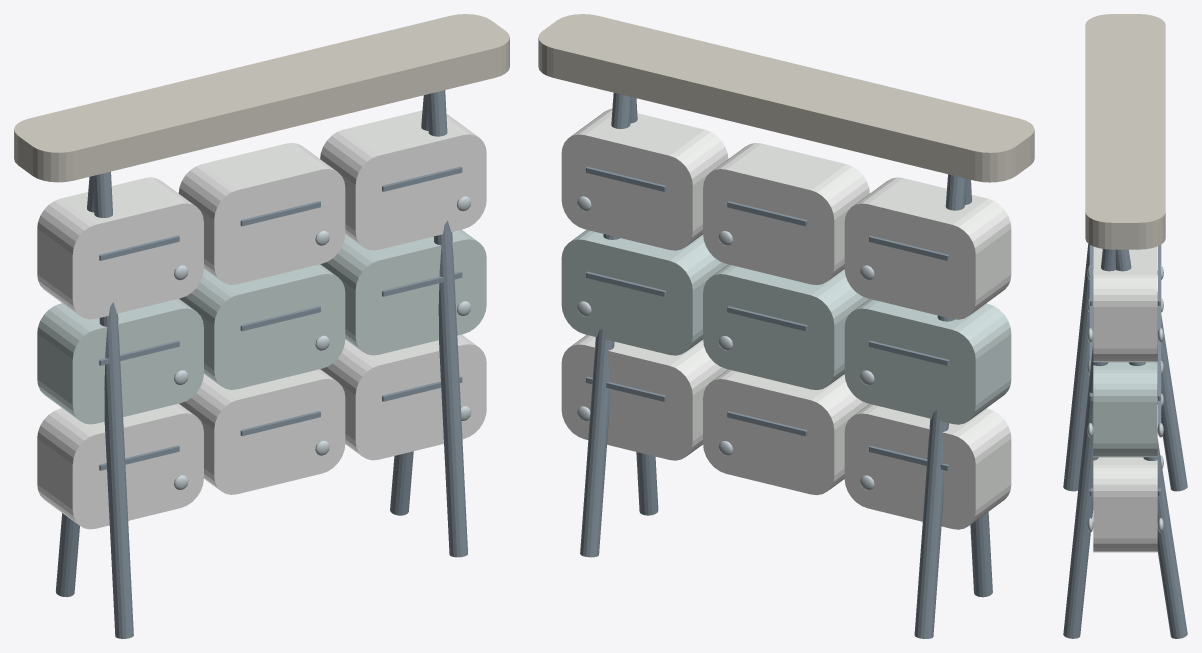
The model's file is mailbox_bank.glb.
3 views of the same model, side by side, from view 1: azimuth 30°, elevation 25°; view 2: azimuth 150°, elevation 25°; view 3: azimuth 270°, elevation 25° (orthographic). The views are drawn at different scales.
Parts seen in each view (by area): view 1: decor_d8dcd8_matte, decor_9bb7b5_matte, decor_aaa493_matte, decor_455665_metal, decor_9aadb8_metal; view 2: decor_d8dcd8_matte, decor_9bb7b5_matte, decor_aaa493_matte, decor_455665_metal, decor_9aadb8_metal; view 3: decor_aaa493_matte, decor_455665_metal, decor_d8dcd8_matte, decor_9bb7b5_matte, decor_9aadb8_metal.
Boxes of the visible parts, x1,y1,x2,y2 form: decor_d8dcd8_matte: [37, 110, 486, 529]; decor_9bb7b5_matte: [37, 229, 486, 424]; decor_aaa493_matte: [14, 14, 509, 182]; decor_455665_metal: [55, 90, 467, 638]; decor_9aadb8_metal: [174, 196, 470, 490]; decor_d8dcd8_matte: [561, 109, 1011, 529]; decor_9bb7b5_matte: [561, 230, 1011, 424]; decor_aaa493_matte: [538, 14, 1034, 182]; decor_455665_metal: [580, 93, 992, 638]; decor_9aadb8_metal: [577, 196, 874, 490]; decor_aaa493_matte: [1085, 14, 1165, 249]; decor_455665_metal: [1063, 244, 1187, 638]; decor_d8dcd8_matte: [1093, 246, 1157, 552]; decor_9bb7b5_matte: [1093, 362, 1157, 457]; decor_9aadb8_metal: [1087, 265, 1163, 532].
Size of the model in its own units: 1.84 by 1.82 by 0.4631.
